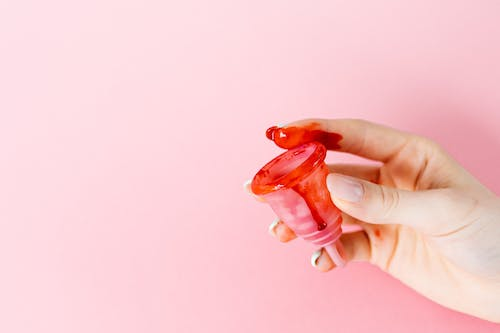blood: (250, 140, 343, 234), (264, 120, 344, 150)
